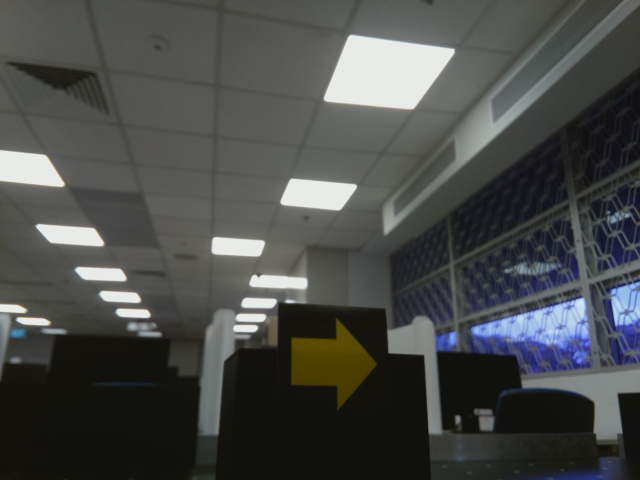right: (282, 309, 380, 413)
